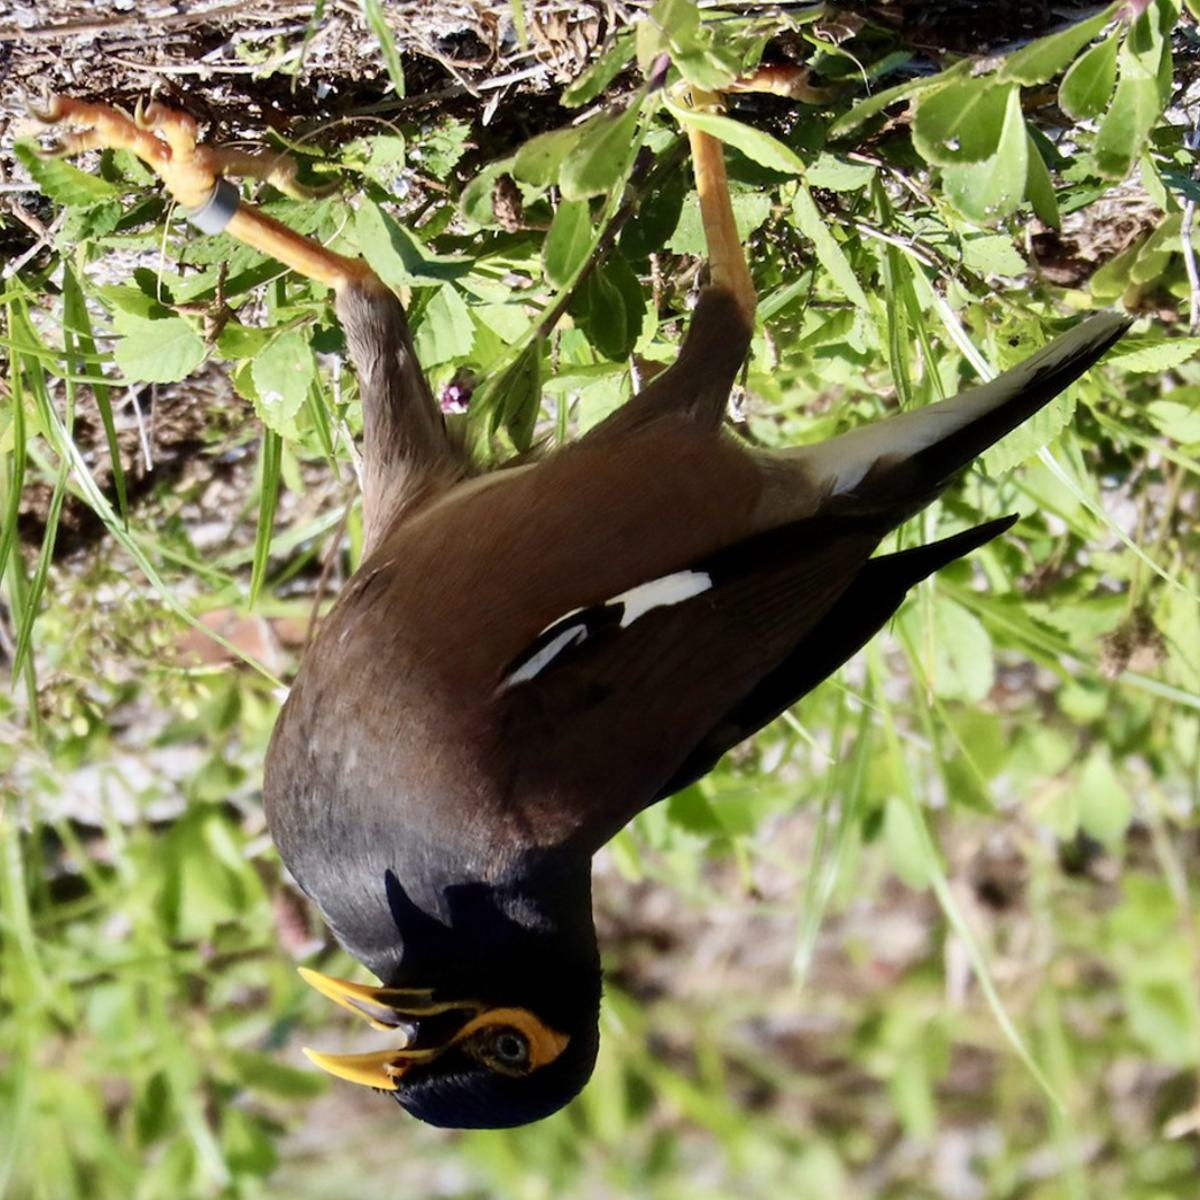myna: (246, 93, 1035, 1127)
